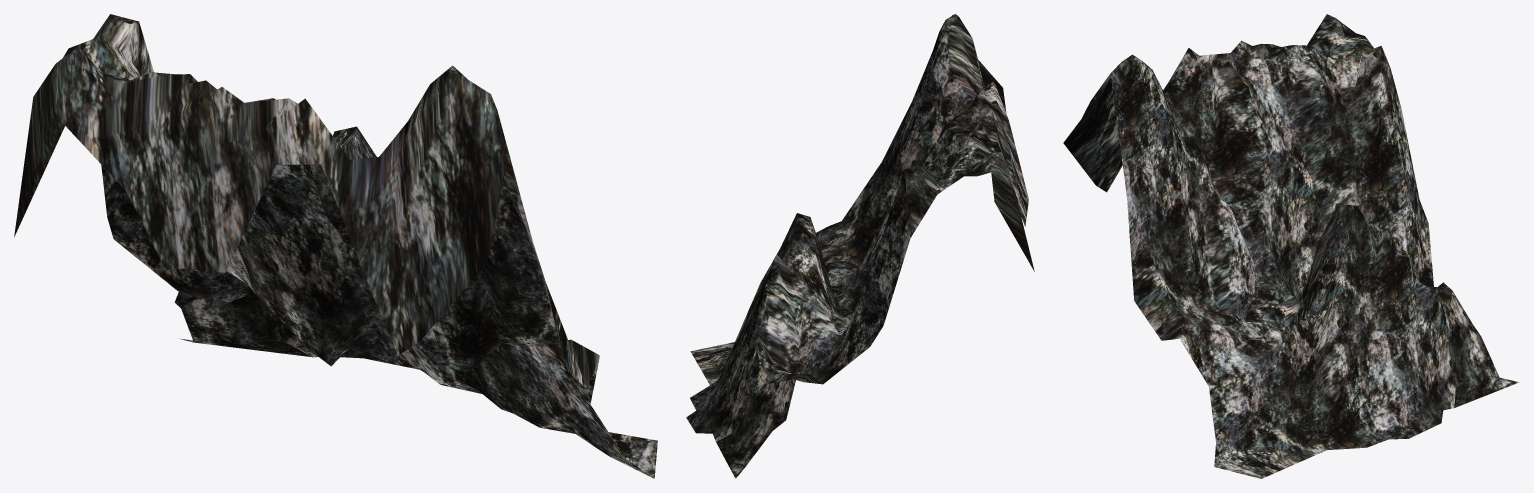
File: OVERHILL_A_01_MOUN1_OBJECT144.fbx
3 views of the same model, side by side, from view 1: azimuth 30°, elevation 25°; view 2: azimuth 150°, elevation 25°; view 3: azimuth 270°, elevation 25° (orthographic). The views are drawn at different scales.
Visible parts, largest first — view 1: OVERHILL_A_01_MOUN1_OBJECT144; view 2: OVERHILL_A_01_MOUN1_OBJECT144; view 3: OVERHILL_A_01_MOUN1_OBJECT144.
Boxes of the visible parts, x1,y1,x2,y2 form: OVERHILL_A_01_MOUN1_OBJECT144: [14, 14, 657, 478]; OVERHILL_A_01_MOUN1_OBJECT144: [686, 14, 1034, 478]; OVERHILL_A_01_MOUN1_OBJECT144: [1063, 14, 1518, 478].
Bounding box in the file's own units: 396676 × 335443 × 422640.
Materials: 1 (1 with a texture image).
